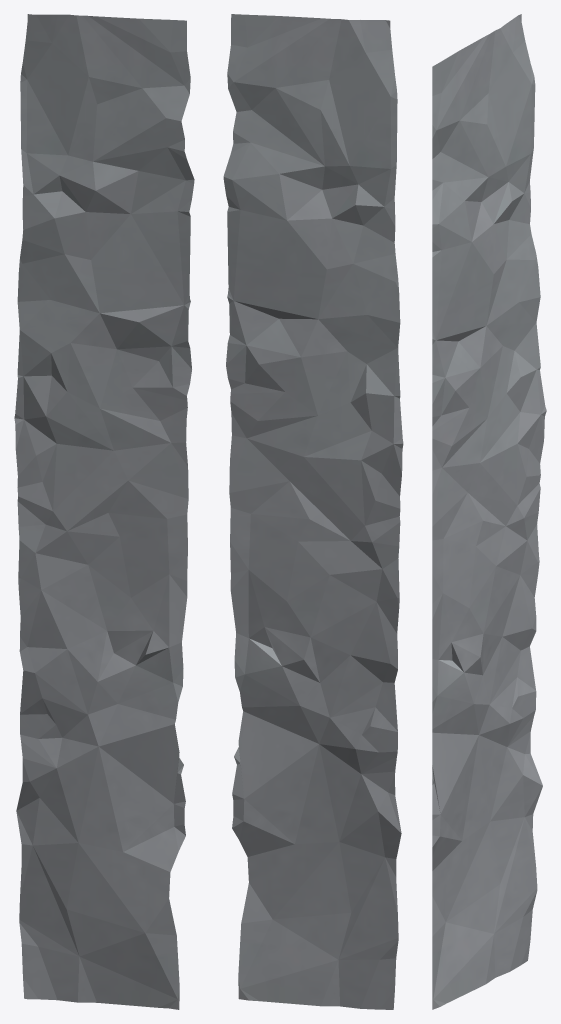
3 views of the same model, side by side, from view 1: azimuth 30°, elevation 25°; view 2: azimuth 210°, elevation 25°; view 3: azimuth 270°, elevation 25° (orthographic). The views are drawn at different scales.
Size of the model in its own units: 0.1068 by 0.8374 by 0.0918.
Materials: 1 (1 with a texture image).
